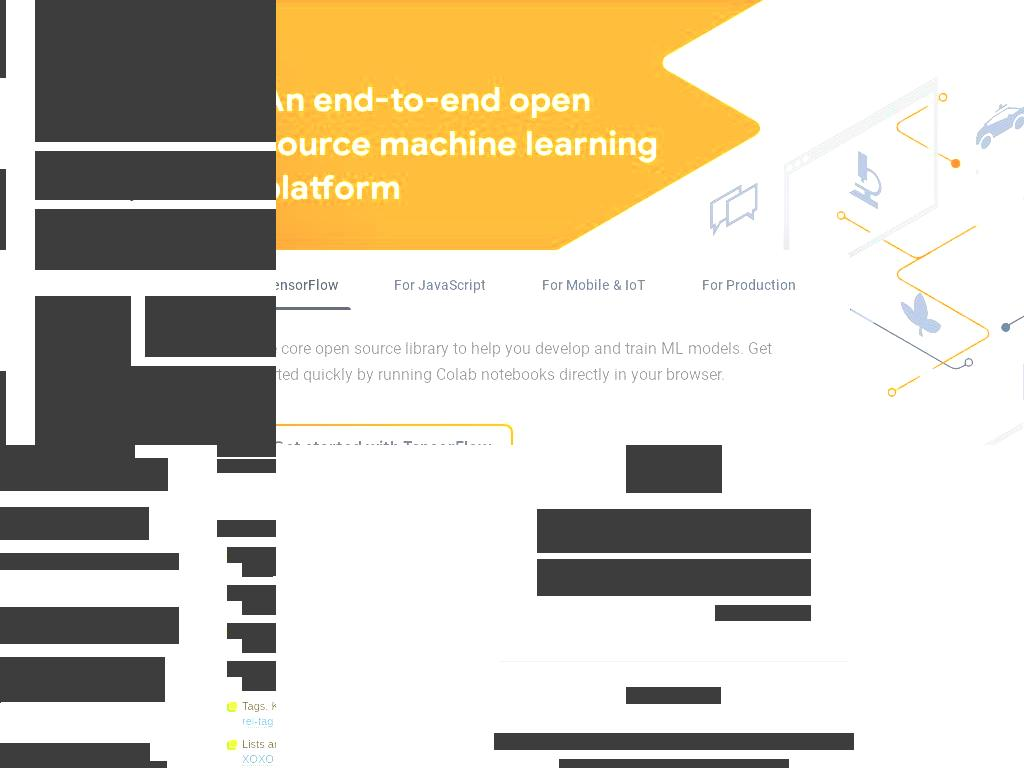button: (35, 0, 276, 142), (35, 296, 131, 392), (0, 445, 135, 474), (715, 605, 811, 621), (12, 761, 151, 768), (217, 459, 276, 473), (242, 601, 276, 615), (242, 639, 276, 653), (242, 677, 276, 691), (242, 753, 274, 767), (242, 563, 273, 577), (242, 715, 273, 729)
field: (537, 509, 811, 553), (537, 559, 811, 596)
heading: (35, 151, 276, 200), (145, 296, 276, 357), (217, 520, 276, 537)
image: (35, 0, 276, 142), (35, 296, 131, 392), (626, 445, 722, 493), (559, 759, 789, 768)
link: (626, 687, 721, 704), (50, 112, 80, 136)
text: (35, 366, 276, 445), (35, 209, 276, 270), (0, 657, 165, 702), (0, 607, 179, 644), (494, 733, 854, 750), (0, 458, 168, 491), (0, 507, 149, 540), (0, 743, 150, 768), (0, 553, 179, 570), (0, 525, 144, 540), (227, 547, 276, 563), (227, 585, 276, 601), (227, 623, 276, 639), (227, 661, 276, 677), (227, 699, 276, 715), (227, 737, 276, 753), (273, 563, 276, 576)
